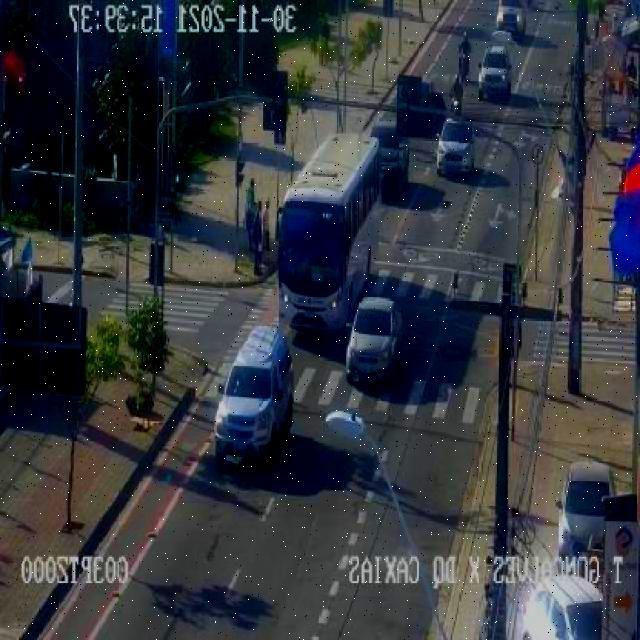Bus: (275, 130, 381, 337)
Car: (216, 326, 294, 466), (554, 461, 618, 561), (516, 571, 603, 640), (347, 296, 400, 384), (368, 117, 412, 190), (436, 117, 478, 176), (479, 45, 512, 102)
Cycle: (456, 45, 471, 83), (447, 94, 465, 114)
